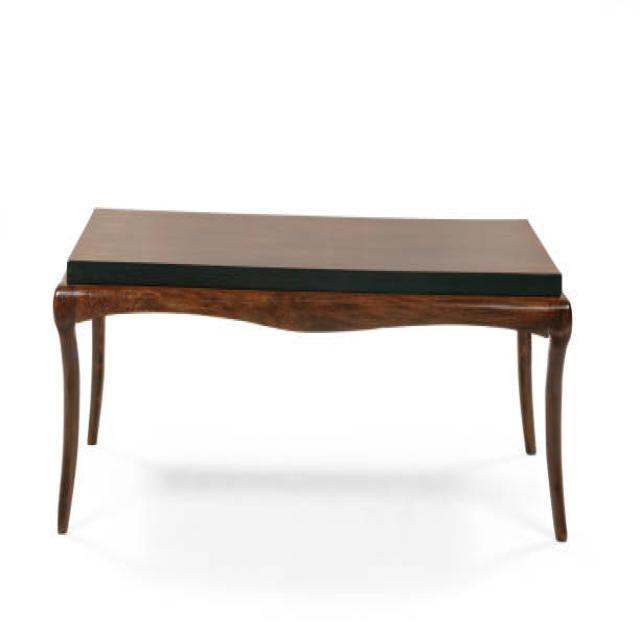table: (52, 205, 572, 542)
